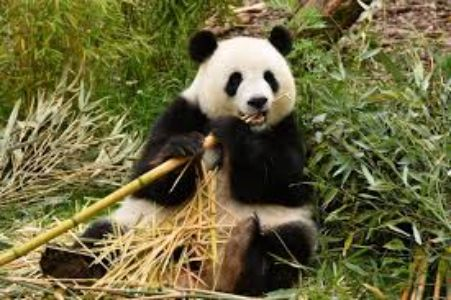bear: (128, 20, 329, 275)
